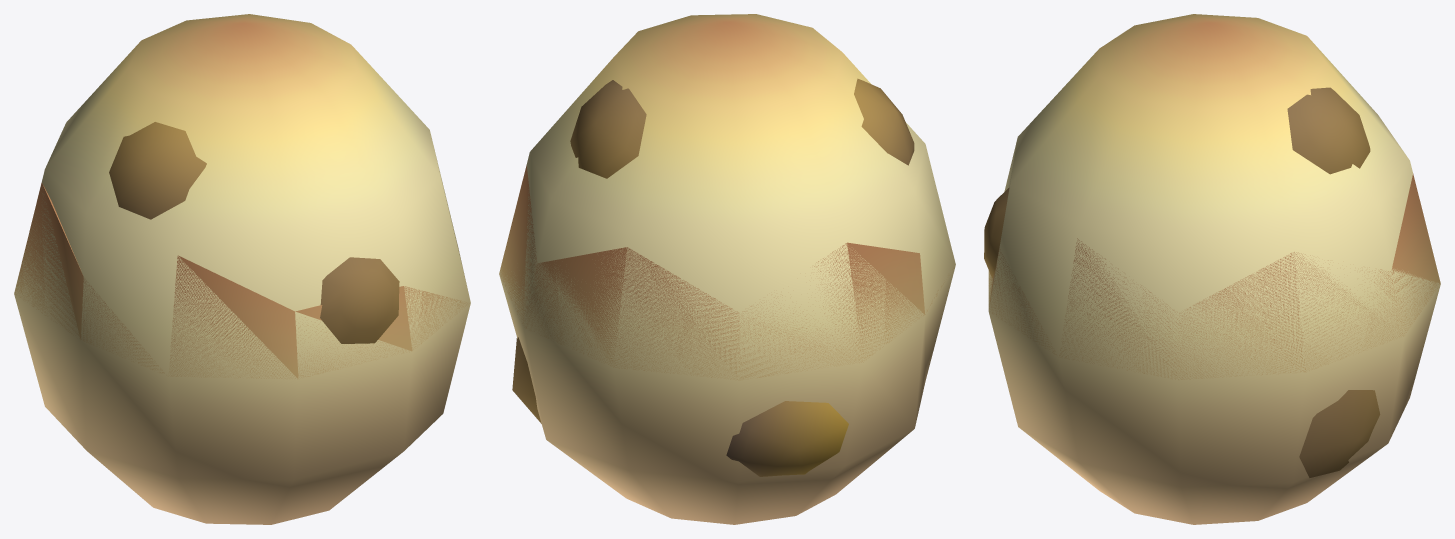
File: Egg_Beige.fbx
3 renders of one model, left to right at view 1: azimuth 30°, elevation 25°; view 2: azimuth 150°, elevation 25°; view 3: azimuth 270°, elevation 25°, orthographic.
Parts seen in each view (by area): view 1: Egg_Beige, Egg_Damaged_Beige; view 2: Egg_Beige, Egg_Damaged_Beige; view 3: Egg_Beige, Egg_Damaged_Beige.
Part boxes in pixels (x1,y1,x2,y2): Egg_Beige: (14,14,470,524); Egg_Damaged_Beige: (14,182,469,379); Egg_Beige: (499,14,955,524); Egg_Damaged_Beige: (499,165,954,380); Egg_Beige: (984,14,1440,524); Egg_Damaged_Beige: (988,173,1440,379).
Bounding box in the file's own units: 1.9 × 2.3 × 1.98.
